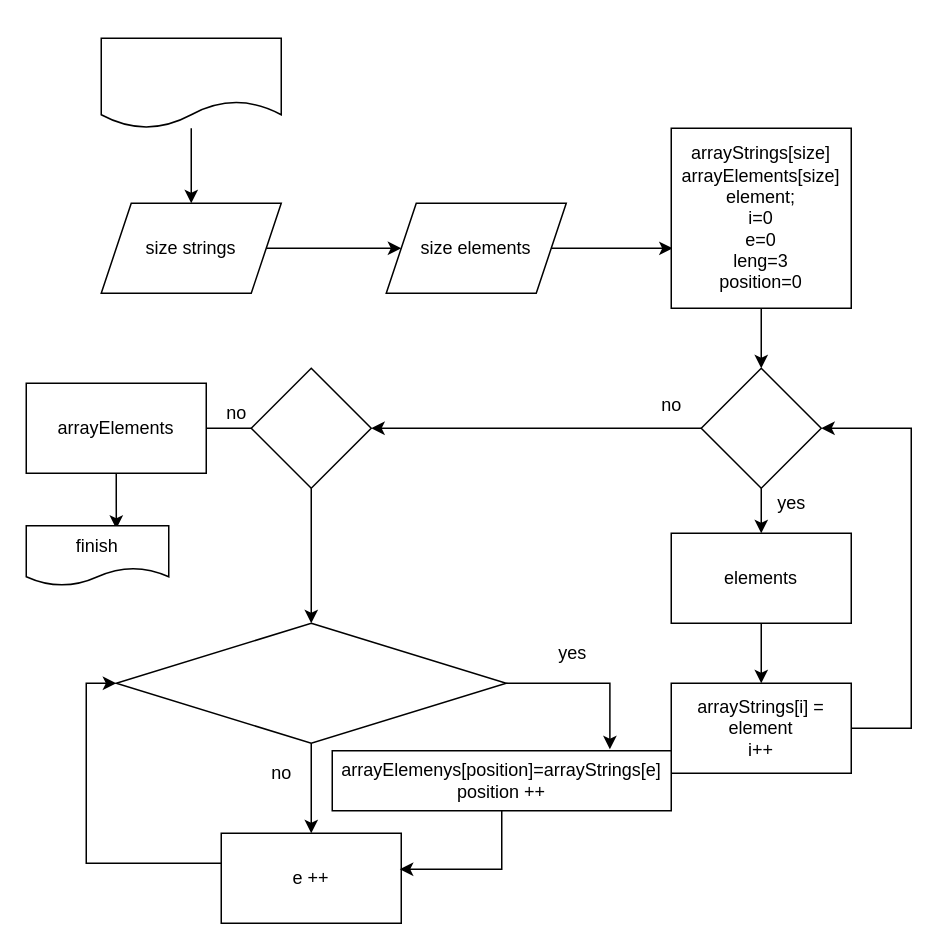
The diagram is 950 pixels wide and 950 high, and some of its shapes have lost their labels. Here are the shapes that lost their labels. From the top down, the centre of each, then its label:
At (190,82): "start".
At (310,427): "e < size ?".
At (760,427): "i < size ?".
At (310,682): "arrayStrings [e].length<=leng?".
